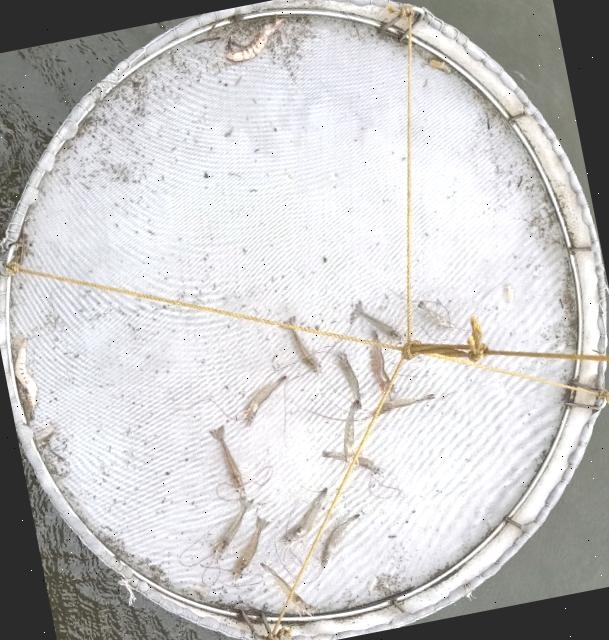shrimp: (261, 564, 317, 613), (209, 426, 245, 496), (226, 19, 283, 61), (283, 488, 326, 542), (213, 498, 253, 556), (242, 375, 286, 426), (232, 516, 267, 579), (321, 513, 360, 567), (350, 301, 402, 341), (12, 339, 36, 421), (286, 318, 319, 371), (334, 352, 360, 408), (373, 393, 434, 413), (322, 453, 380, 474), (373, 334, 394, 391), (344, 403, 359, 464)
